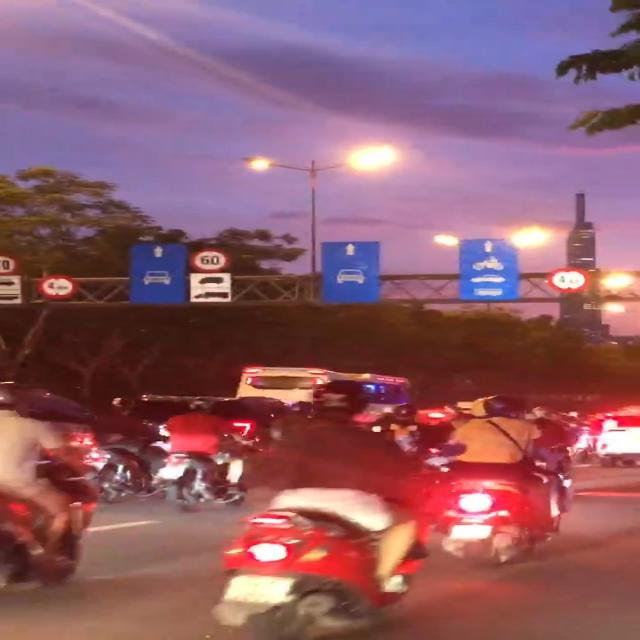Bien bao han che chieu cao: (37, 270, 93, 302), (542, 264, 594, 295)
Bien bao toc do toi da cho phep: (181, 247, 238, 274)
